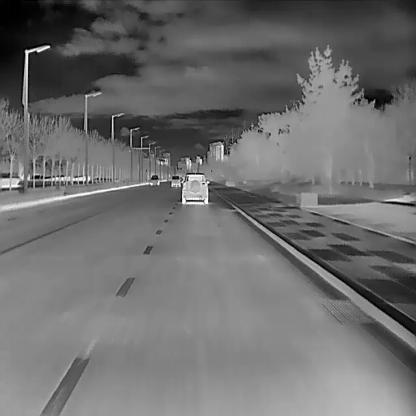car: (182, 171, 210, 204), (170, 175, 180, 187), (150, 174, 160, 185)
